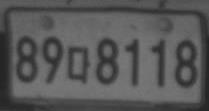1: (122, 38, 145, 85), (148, 38, 170, 86)
8: (95, 37, 119, 84), (15, 35, 38, 82), (175, 39, 198, 86)
9: (41, 36, 63, 83)
다: (67, 45, 90, 84)
